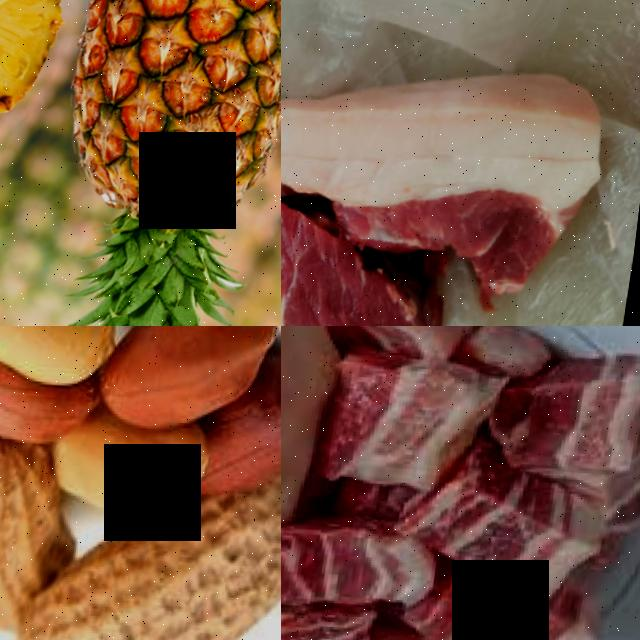peanuts: (13, 558, 281, 640), (54, 408, 222, 521), (107, 326, 281, 427), (0, 423, 66, 622), (0, 326, 137, 387)
pineapple: (55, 0, 281, 250)
pork belly: (337, 57, 618, 290), (281, 78, 470, 326), (410, 448, 628, 602), (329, 342, 518, 498), (497, 342, 640, 482), (281, 511, 451, 613), (412, 563, 618, 640), (318, 326, 497, 362), (281, 602, 394, 640)
